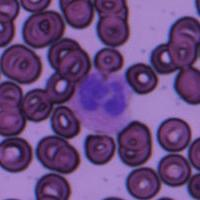N: (68, 69, 132, 134)
